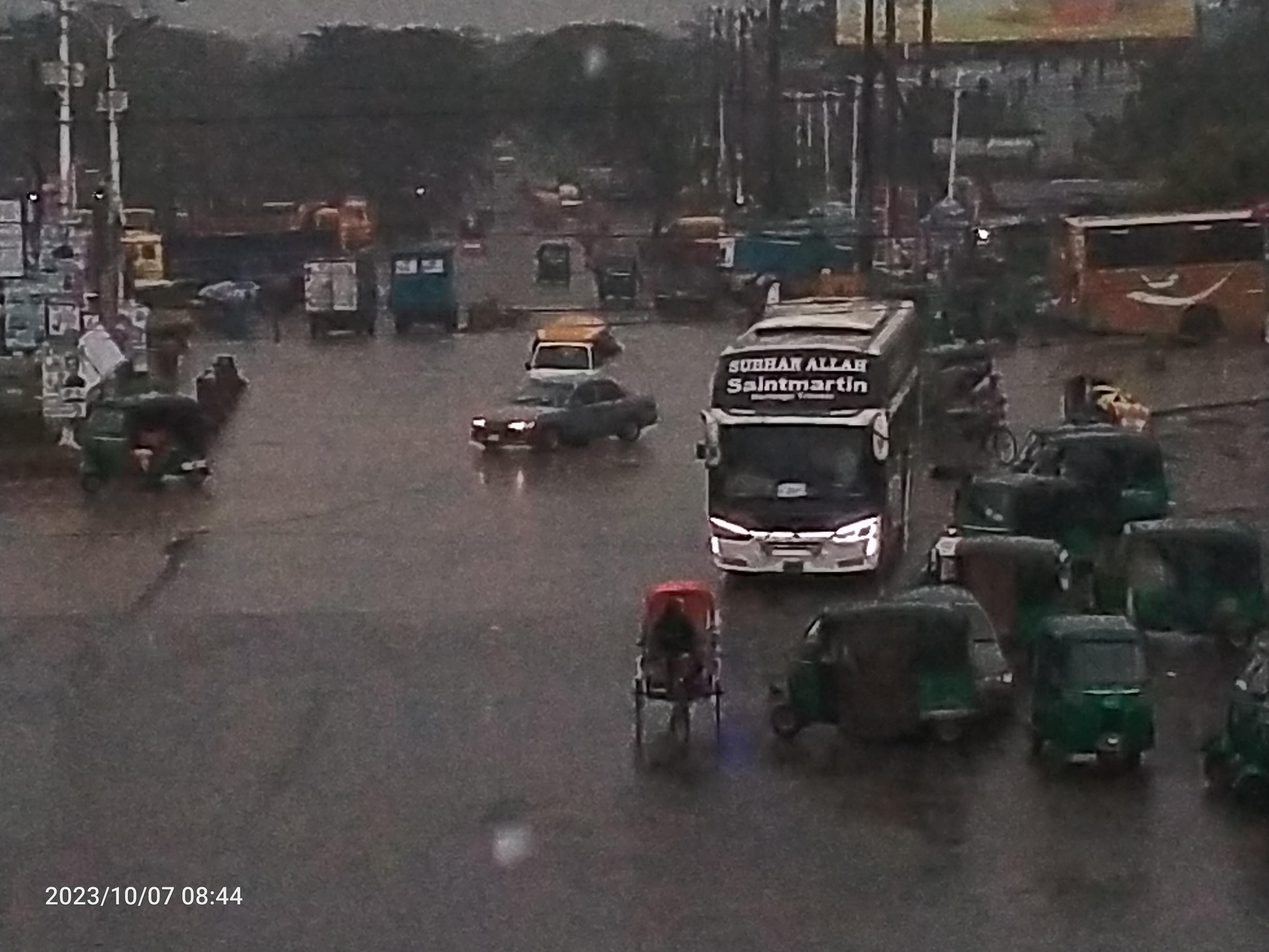Bus: (671, 273, 949, 616), (1021, 188, 1269, 359)
Car: (447, 355, 694, 486), (600, 565, 752, 757), (508, 294, 651, 411)
Truck: (367, 220, 483, 361), (279, 232, 388, 366)
